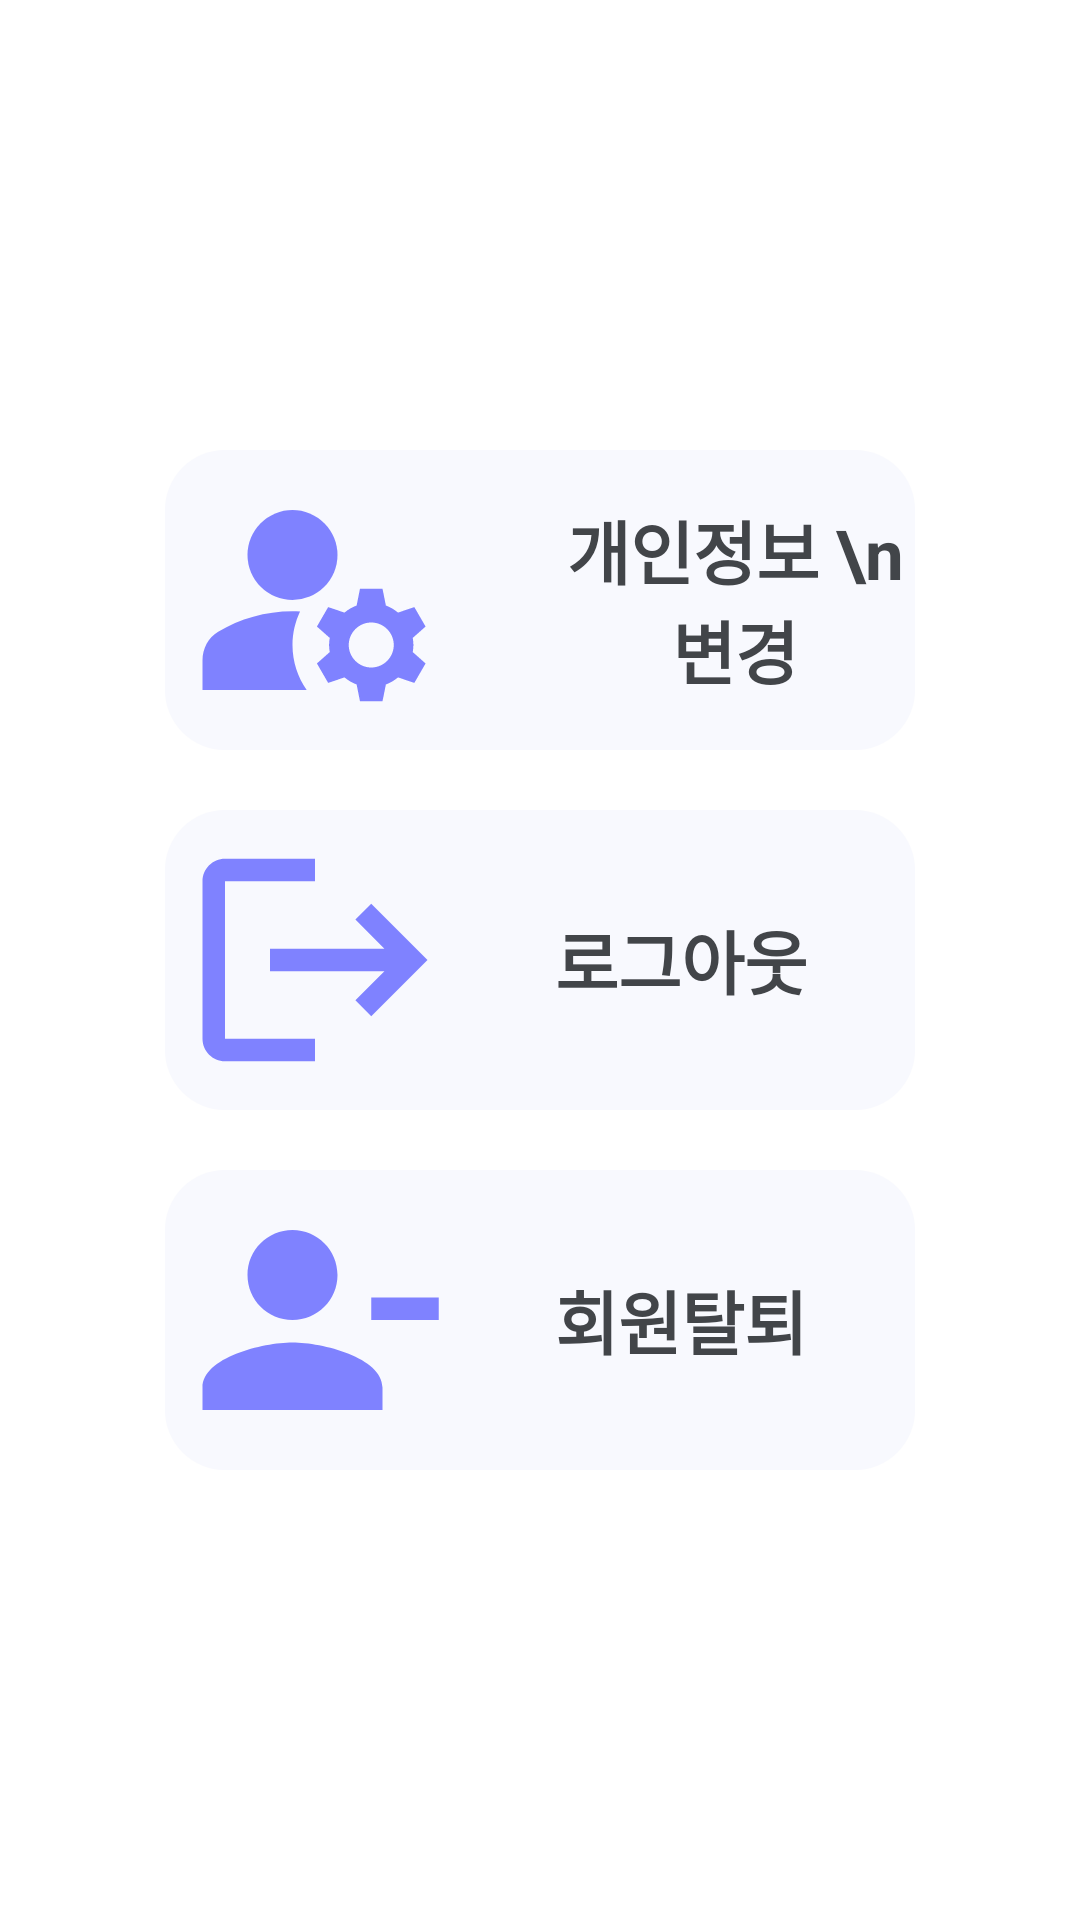

Screen size 1080x1920. Icon name, then its box in pixels as (x1, y1, x2, y2):
manage accounts: (202, 510, 426, 702)
person remove: (202, 1230, 439, 1410)
